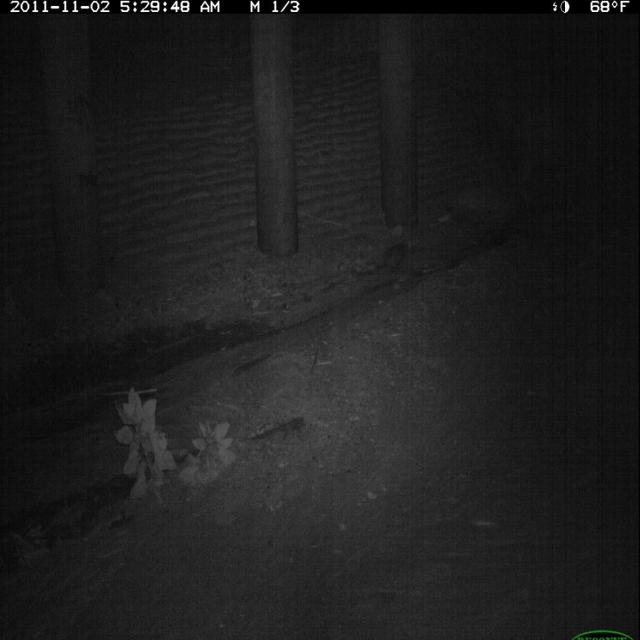opossum: (376, 238, 414, 277)
